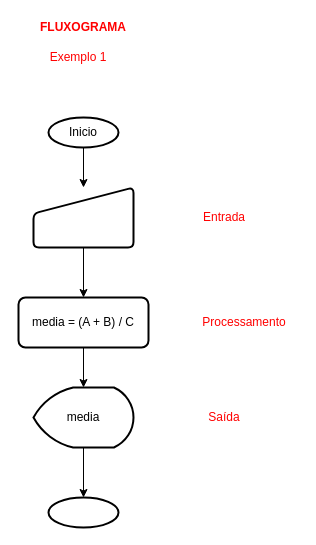
Image size: 316x545. Some labels were removed from this diagram. The centre of each missing label's shape, as x and y in pixels:
A, B, C: point (83, 217)
Fim: point (83, 512)
